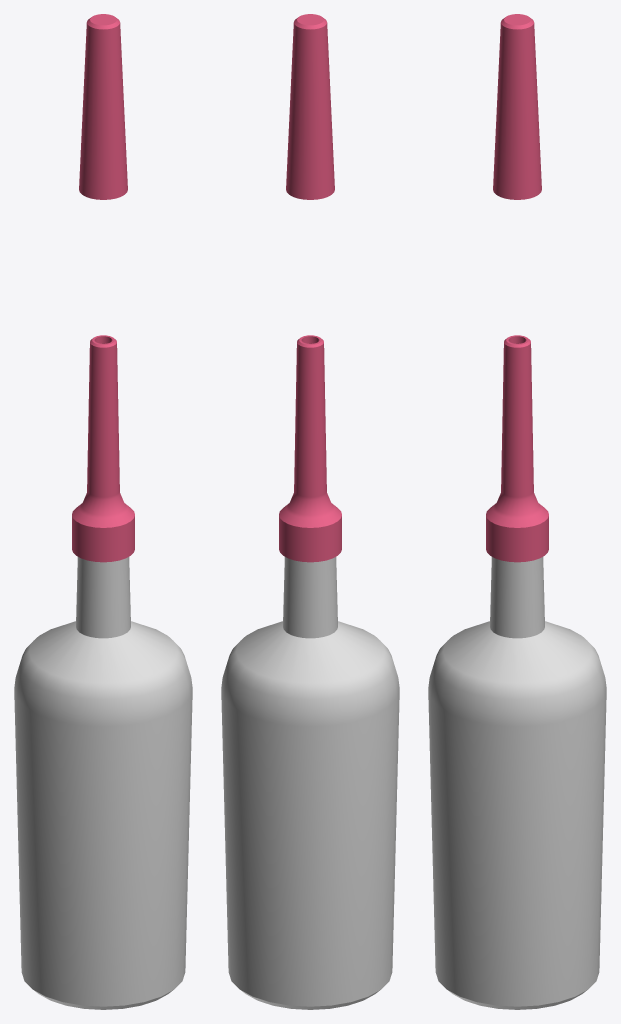
Rendered from SM_Glycerine.fbx.
3 views of the same model, side by side, from view 1: azimuth 30°, elevation 25°; view 2: azimuth 150°, elevation 25°; view 3: azimuth 270°, elevation 25° (orthographic).
Parts seen in each view (by area): view 1: body, head, cap; view 2: body, head, cap; view 3: body, head, cap.
Part boxes in pixels (x1,y1,x2,y2): body: (14, 557, 192, 1009); head: (72, 335, 134, 562); cap: (79, 14, 127, 199); body: (221, 557, 399, 1009); head: (279, 335, 341, 562); cap: (286, 14, 334, 199); body: (428, 557, 606, 1009); head: (486, 335, 548, 562); cap: (493, 14, 541, 199).
Size of the model in its own units: 0.0276 by 0.1634 by 0.0276.
